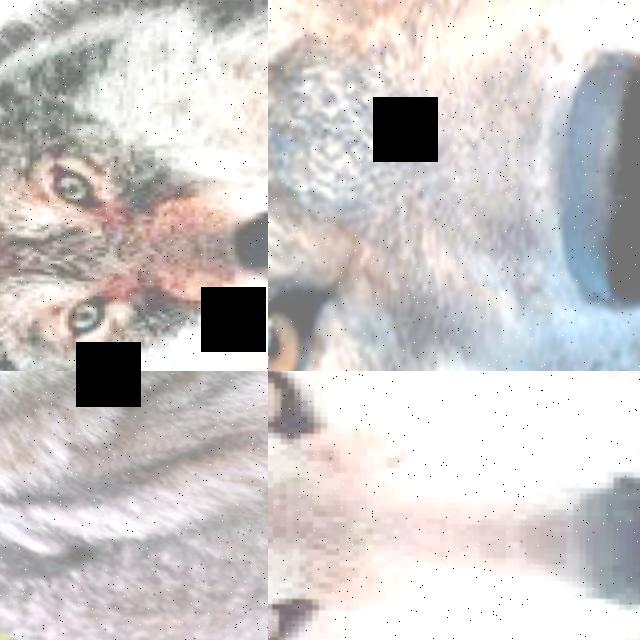wolf: (268, 0, 640, 371), (268, 371, 640, 640), (0, 0, 268, 371), (0, 371, 268, 640), (0, 0, 235, 131)
